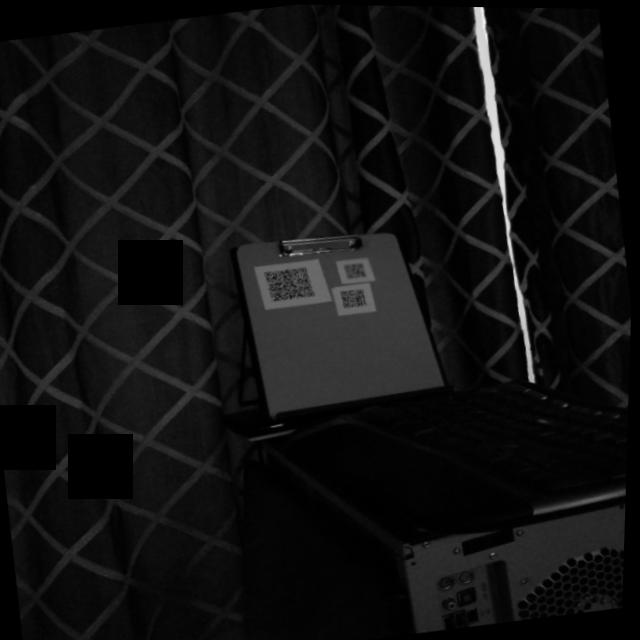QR_CODE: (258, 257, 323, 309), (336, 280, 377, 314), (341, 255, 376, 282)
